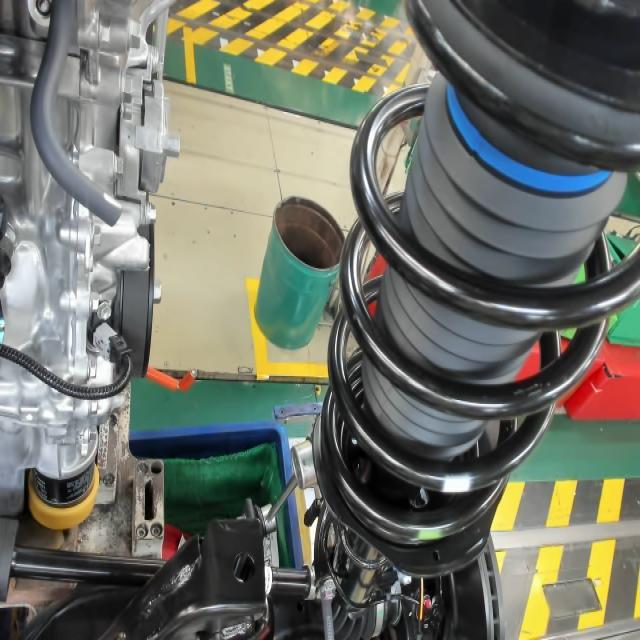Bumper-BR: (444, 80, 616, 202)
Drive Shaft-PT: (262, 560, 274, 600)
